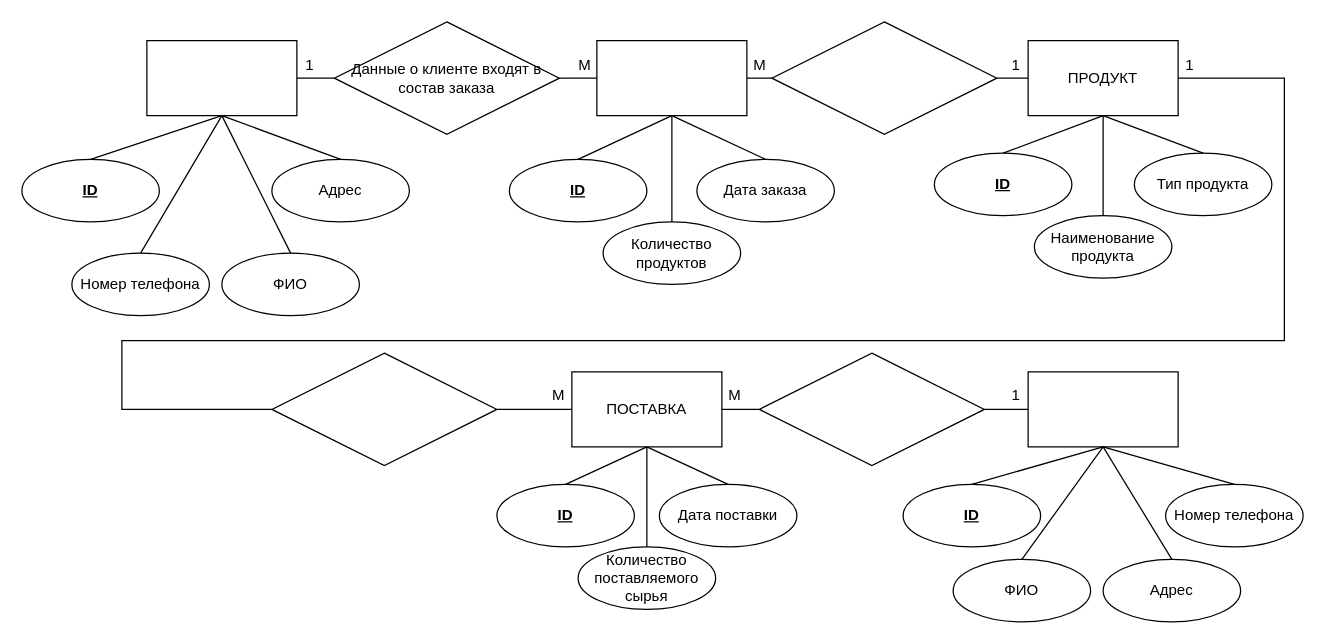
The diagram is 1325 pixels wide and 644 high, and some of its shapes have lost their labels. The shapes that lost their labels are listed below. From the top down, each one's centre as x and y in pixels, then its label:
At [221,77]: "КЛИЕНТ".
At [671,77]: "ЗАКАЗ".
At [884,77]: "Данные о продукте входят в состав заказа".
At [384,409]: "Данные о продукте входят в состав поставки".
At [871,409]: "Данные о поставщике входят в состав поставки".
At [1102,409]: "ПОСТАВЩИК".
